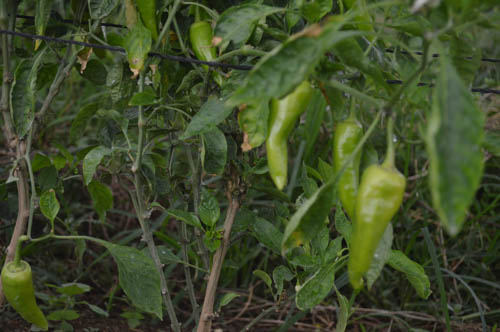ChiliPepper: (345, 165, 401, 287), (266, 87, 307, 189), (1, 266, 45, 327), (338, 119, 362, 213), (185, 22, 216, 73)
